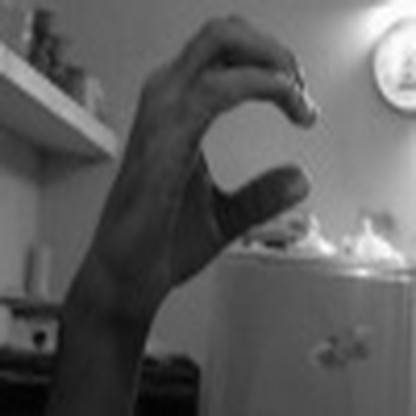c: (110, 14, 322, 273)
